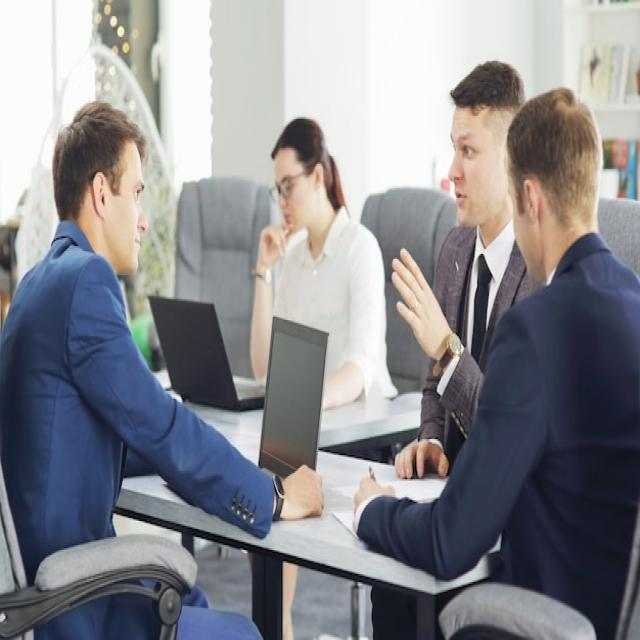adult: (0, 102, 321, 640), (355, 87, 640, 640), (393, 60, 536, 484), (247, 112, 390, 442)
